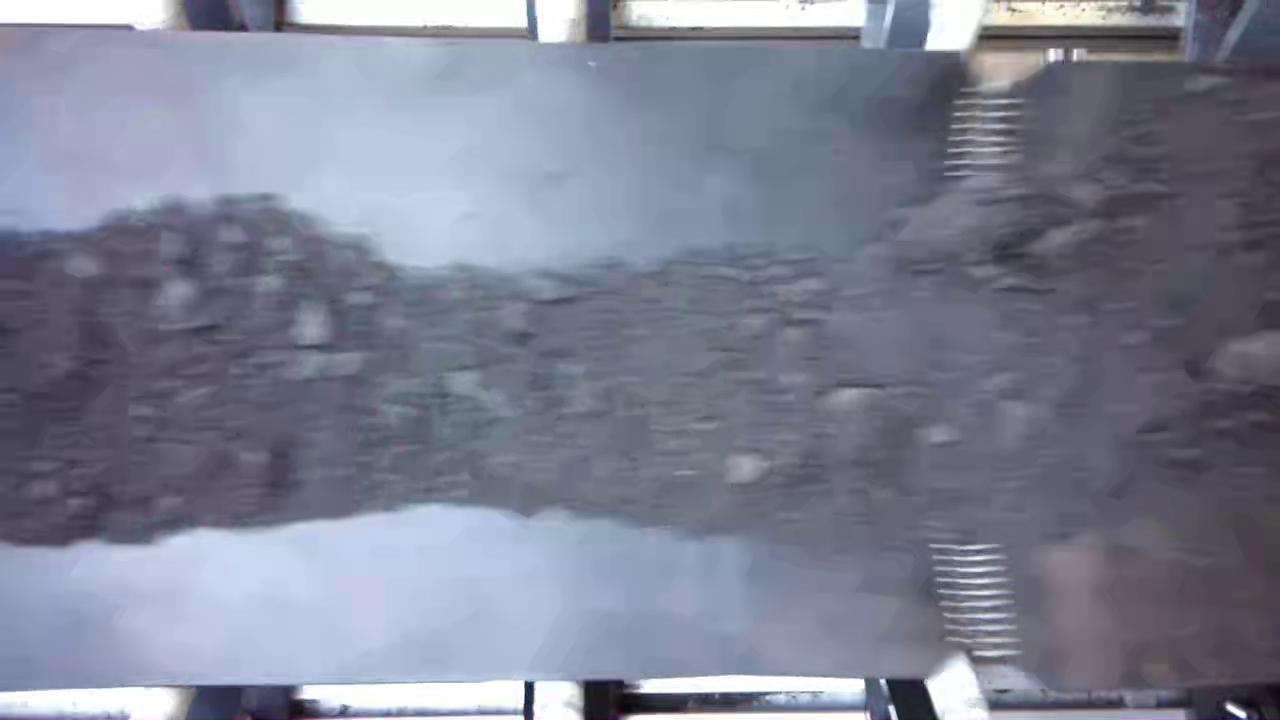conveyor: (0, 65, 1280, 680)
